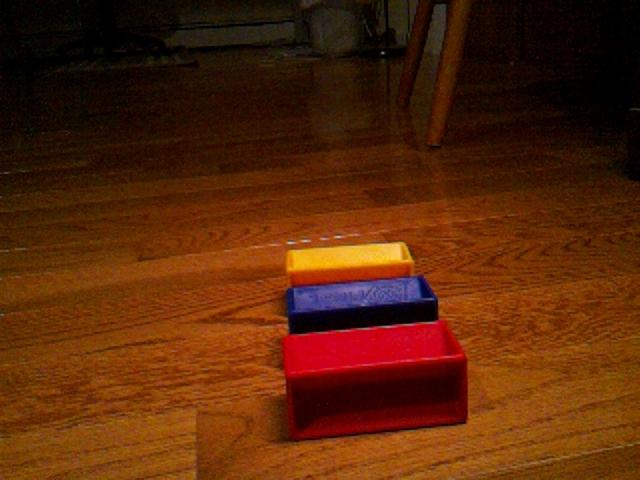blue: (285, 274, 440, 333)
red: (281, 319, 470, 441)
yellow: (285, 240, 416, 286)
